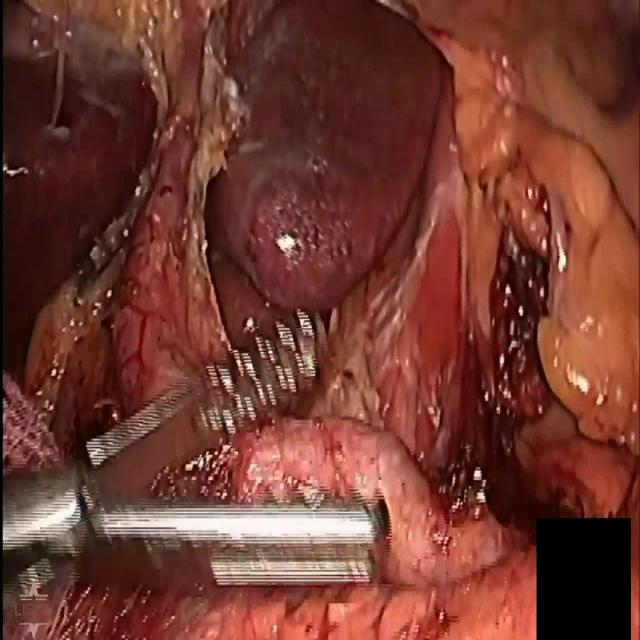surgical-area: (0, 0, 640, 639)
surgical-tool: (0, 301, 390, 594)
